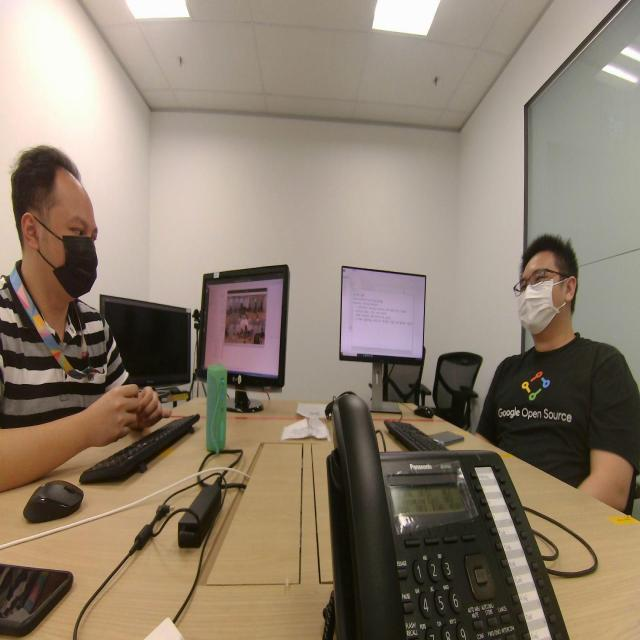obstacle: (474, 198, 612, 471), (13, 113, 114, 433)
